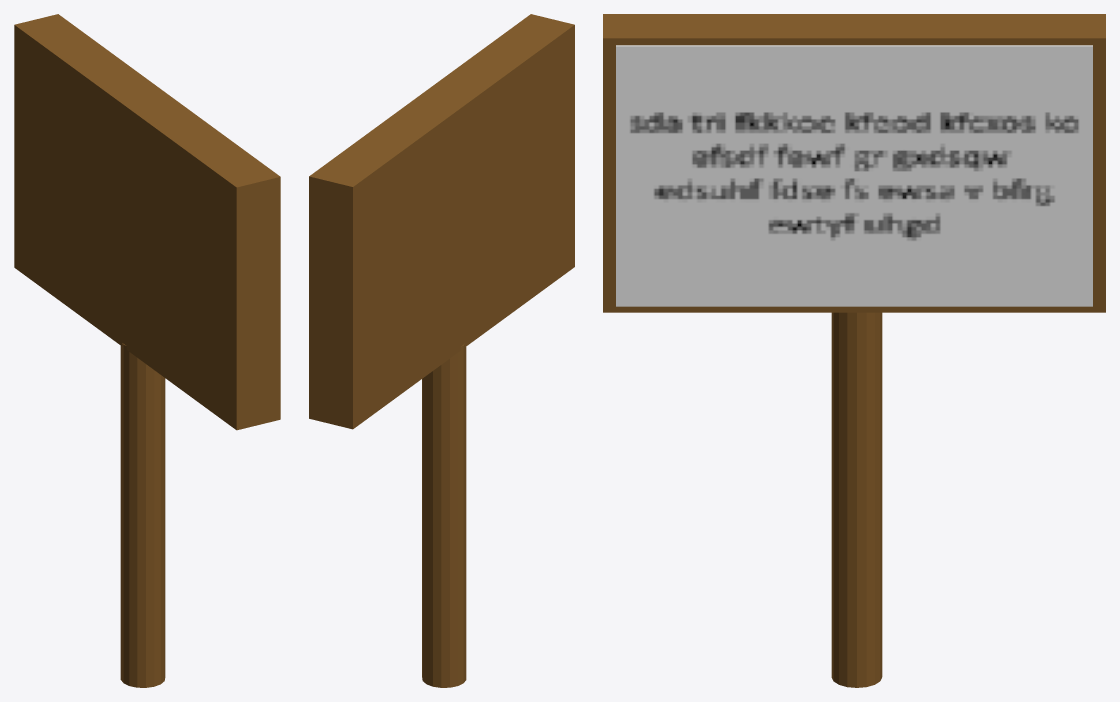
Rendered from sign.fbx.
3 views of the same model, side by side, from view 1: azimuth 30°, elevation 25°; view 2: azimuth 150°, elevation 25°; view 3: azimuth 270°, elevation 25° (orthographic). The views are drawn at different scales.
Parts seen in each view (by area): view 1: Cube; view 2: Cube; view 3: Cube.
Boxes of the visible parts, x1,y1,x2,y2 form: Cube: (14,14,280,687); Cube: (309,14,574,687); Cube: (603,14,1105,687).
Size of the model in its own units: 18.05 by 213 by 149.
